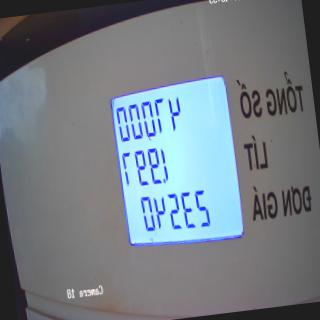screen: (105, 67, 249, 255)
